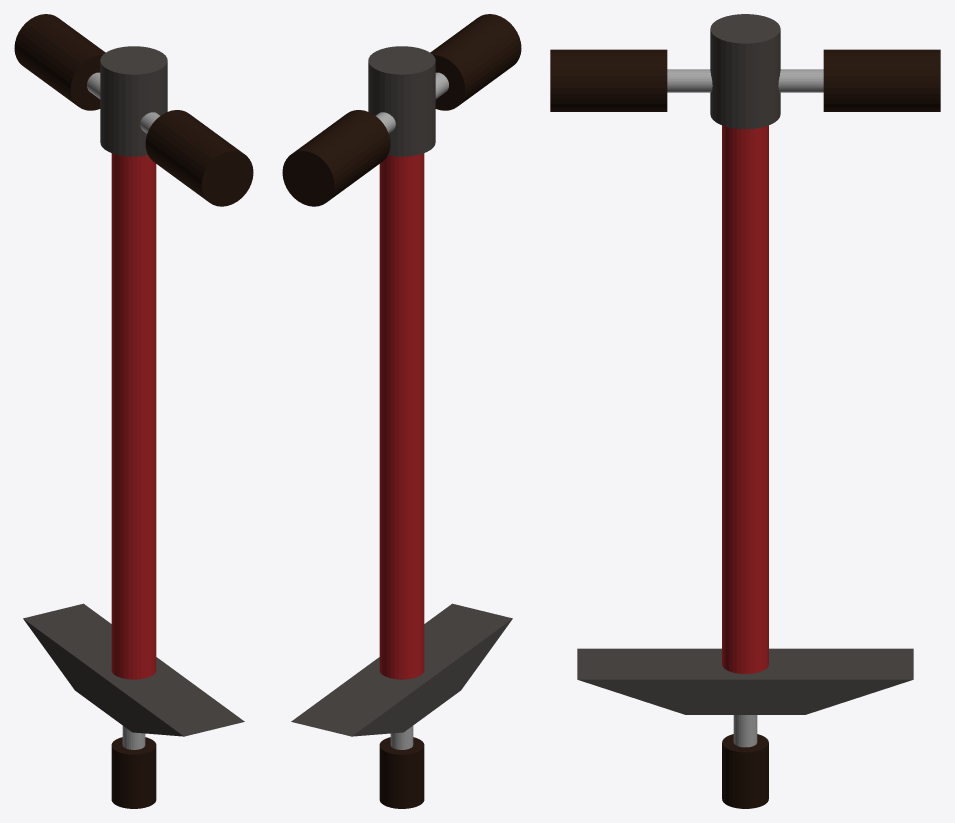
File: PogoStickModel.fbx
3 renders of one model, left to right at view 1: azimuth 30°, elevation 25°; view 2: azimuth 150°, elevation 25°; view 3: azimuth 270°, elevation 25°, orthographic. The views are drawn at different scales.
Visible parts, largest first — view 1: Cylinder.005, Cube, Cylinder.003, Cylinder.001, Cylinder.004, Cylinder.002, Cylinder; view 2: Cylinder.005, Cube, Cylinder.004, Cylinder.001, Cylinder.003, Cylinder.002, Cylinder; view 3: Cylinder.005, Cube, Cylinder.001, Cylinder.003, Cylinder.004, Cylinder.002, Cylinder.
Part boxes in pixels (left/top/right/bottom): Cylinder.005: left=111, top=153, right=156, bottom=679; Cube: left=23, top=603, right=244, bottom=736; Cylinder.003: left=145, top=110, right=253, bottom=206; Cylinder.001: left=100, top=46, right=167, bottom=156; Cylinder.004: left=14, top=14, right=105, bottom=110; Cylinder.002: left=111, top=737, right=156, bottom=808; Cylinder: left=87, top=72, right=159, bottom=749; Cylinder.005: left=379, top=153, right=424, bottom=679; Cube: left=291, top=603, right=512, bottom=736; Cylinder.004: left=282, top=110, right=390, bottom=206; Cylinder.001: left=368, top=46, right=435, bottom=156; Cylinder.003: left=430, top=14, right=521, bottom=110; Cylinder.002: left=379, top=737, right=424, bottom=808; Cylinder: left=376, top=72, right=448, bottom=749; Cylinder.005: left=722, top=125, right=768, bottom=673; Cube: left=577, top=648, right=913, bottom=714; Cylinder.001: left=710, top=14, right=780, bottom=128; Cylinder.003: left=550, top=49, right=667, bottom=111; Cylinder.004: left=823, top=49, right=940, bottom=111; Cylinder.002: left=722, top=734, right=768, bottom=808; Cylinder: left=667, top=69, right=823, bottom=747.
Size of the model in its own units: 18.75 by 218 by 100.
